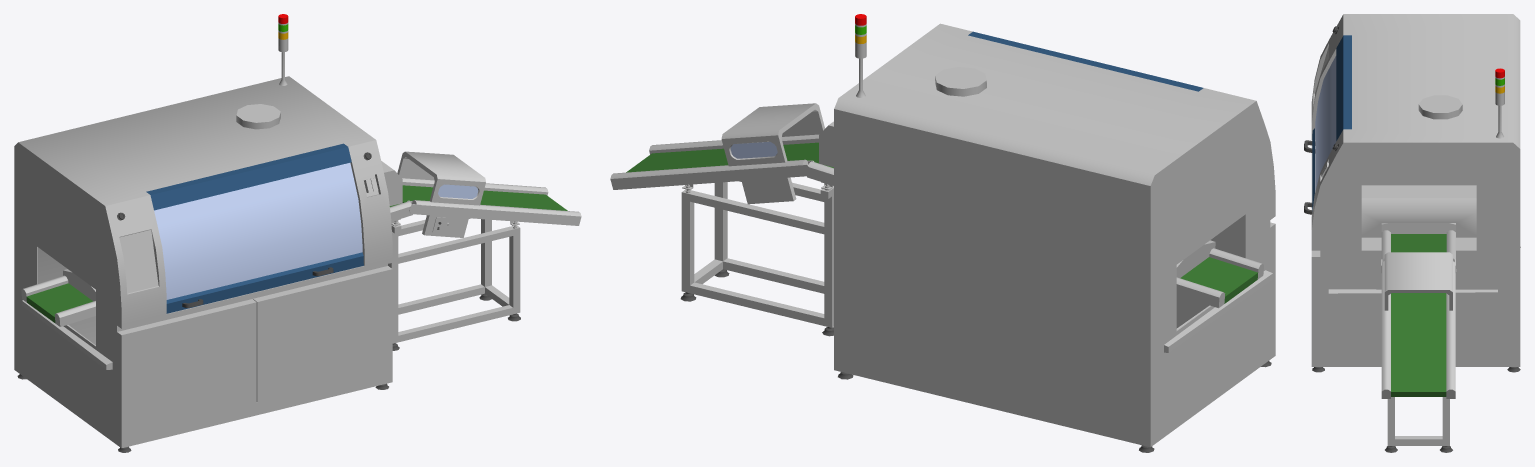
The model's file is BoFengHan.glb.
3 renders of one model, left to right at view 1: azimuth 30°, elevation 25°; view 2: azimuth 150°, elevation 25°; view 3: azimuth 270°, elevation 25°, orthographic. The views are drawn at different scales.
Parts seen in each view (by area): view 1: BoFengHan; view 2: BoFengHan; view 3: BoFengHan.
Boxes of the visible parts, <box> form: BoFengHan: <box>14,14,581,452</box>; BoFengHan: <box>610,14,1275,452</box>; BoFengHan: <box>1304,14,1520,452</box>.
Bounding box in the file's own units: 7.94 × 4.42 × 2.93.
